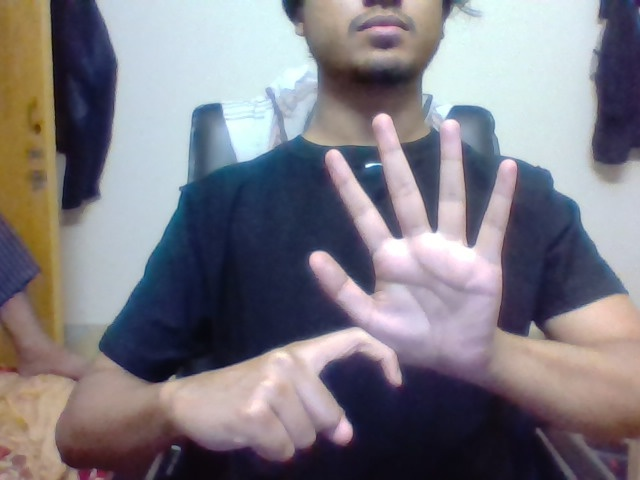R: (283, 328, 410, 441)
